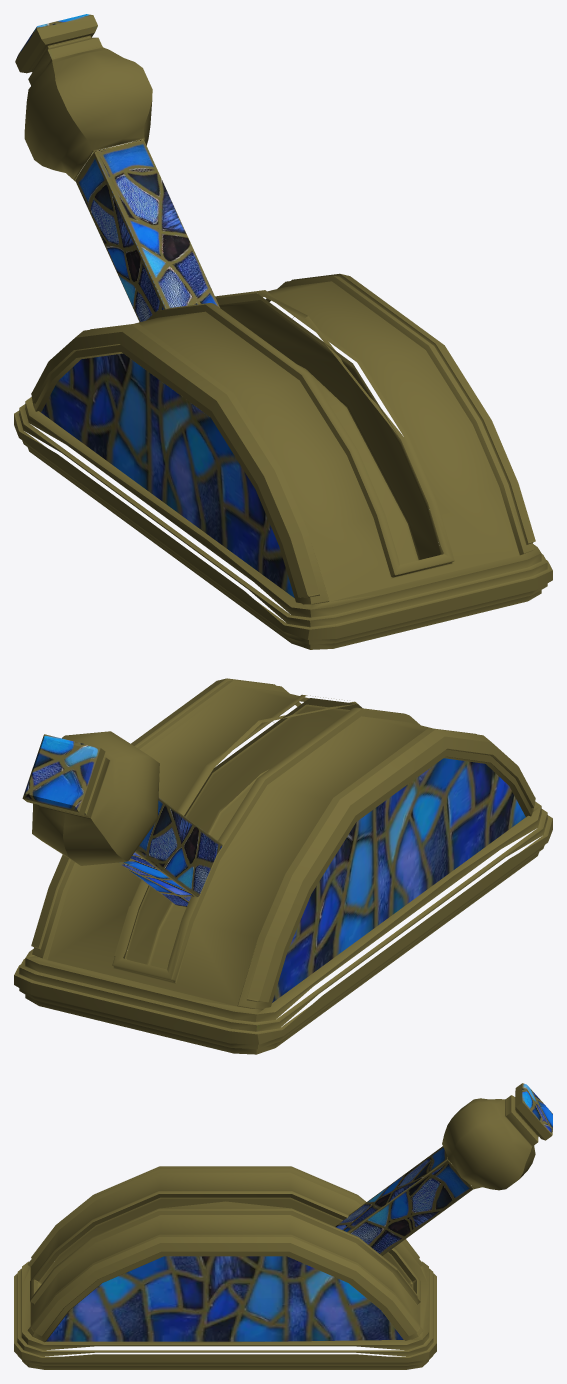
Rendered from leverWholeP3_lowPoly_lowPoly.glb.
3 views of the same model, one above another, from view 1: azimuth 30°, elevation 25°; view 2: azimuth 150°, elevation 25°; view 3: azimuth 270°, elevation 25° (orthographic). The views are drawn at different scales.
Parts seen in each view (by area): view 1: Mesh_1.002; view 2: Mesh_1.002; view 3: Mesh_1.002.
Part boxes in pixels (<box>): Mesh_1.002: <box>14,14,552,649</box>; Mesh_1.002: <box>14,678,552,1054</box>; Mesh_1.002: <box>14,1083,552,1369</box>.
Size of the model in its own units: 0.4998 by 0.6159 by 1.27.
2 materials, 2 textured.
